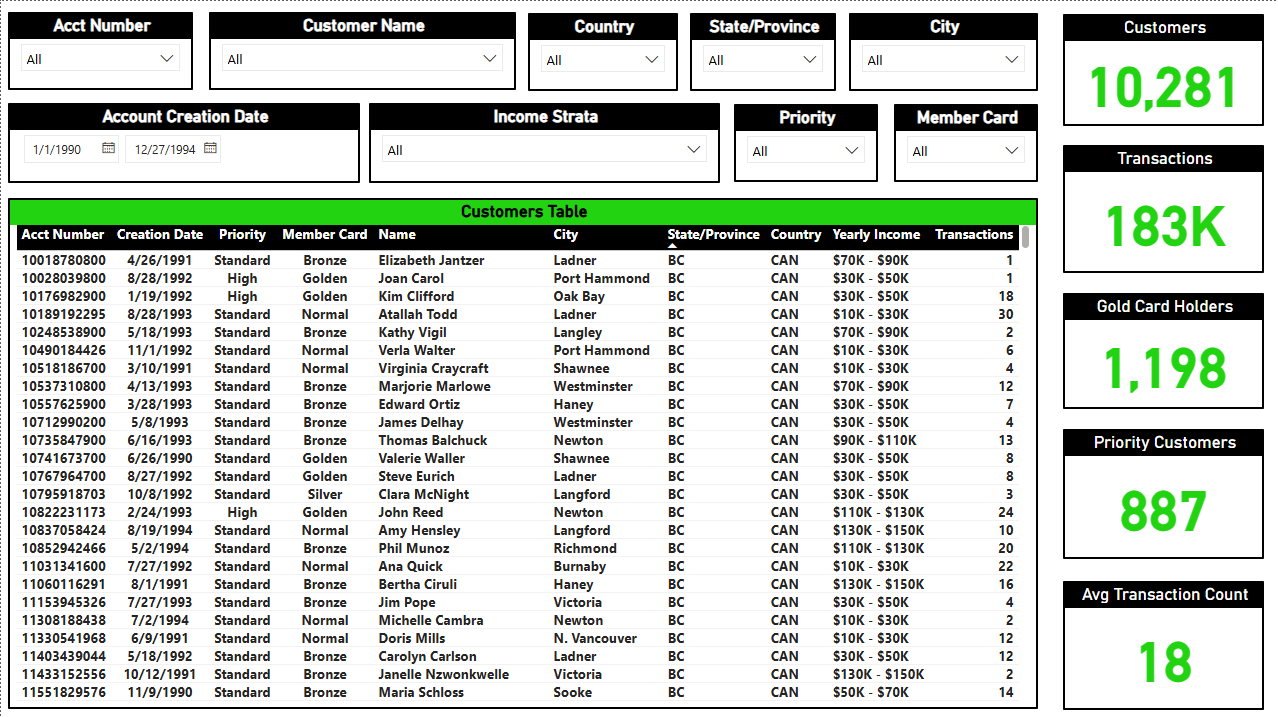

This screenshot's page, from the dashboard's own definition file:
{"tool":"powerbi","page":{"name":"Customer Lookup","canvas":[1280,720],"ordinal":2},"visuals":[{"type":"card","title":"Customers","fields":{"Values":["Measures Table.Total Customers"]},"box":[1062,13,201.1,112.4],"z":0,"group":"g1"},{"type":"tableEx","title":"Customers Table","fields":{"Values":["Customers.Customer Account Number","Customers.Date Account Opened","Customers.Priority","Customers.Member Card","Customers.Full Name","Customers.City","Customers.State/Province","Customers.Short_Country","Customers.Yearly Income","Measures Table.Customer Transactions"]},"box":[7.2,196.9,1029.7,510.8],"z":0},{"type":"group","id":"g1","title":"Customer Cards","box":[1062,13,201,695],"z":1000},{"type":"card","title":"Gold Card Holders","fields":{"Values":["Measures Table.Gold Card Members"]},"box":[1062,292.4,201.1,115.5],"z":1000,"group":"g1"},{"type":"slicer","title":"Acct Number","fields":{"Values":["Customers.Customer Account Number"]},"box":[7.2,11.3,185.3,77.9],"z":2000},{"type":"card","title":"Transactions","fields":{"Values":["Measures Table.Customer Transactions"]},"box":[1062,144.1,201.1,128],"z":2000,"group":"g1"},{"type":"slicer","title":"Customer Name","fields":{"Values":["Customers.Full Name"]},"box":[208.2,11.3,306.7,77.9],"z":3000},{"type":"card","title":"Priority Customers","fields":{"Values":["Measures Table.High Priority Customers"]},"box":[1062,428.3,201.1,129.6],"z":3000,"group":"g1"},{"type":"slicer","title":"Priority","fields":{"Values":["Customers.Priority"]},"box":[733.1,103.3,143.6,77.9],"z":4000},{"type":"card","title":"Avg Transaction Count","fields":{"Values":["Measures Table.Avg Transactions per Customer"]},"box":[1062,579.7,201.1,129.6],"z":4000,"group":"g1"},{"type":"slicer","title":"Account Creation Date","fields":{"Values":["Customers.Date Account Opened"]},"box":[7.2,101.5,351.8,80],"z":5000},{"type":"slicer","title":"Country","fields":{"Values":["Customers.Country"]},"box":[526.6,12.3,150.8,77.9],"z":6000},{"type":"slicer","title":"State/Province","fields":{"Values":["Customers.State/Province"]},"box":[689.2,12.3,145.4,77.9],"z":7000},{"type":"slicer","title":"Income Strata","fields":{"Values":["Customers.Yearly Income"]},"box":[368.2,101.5,350.8,80],"z":8000},{"type":"slicer","title":"City","fields":{"Values":["Customers.City"]},"box":[847.5,12.3,189.6,77.9],"z":9000},{"type":"slicer","title":"Member Card","fields":{"Values":["Customers.Member Card"]},"box":[893.1,103.3,143.6,77.9],"z":10000}]}

Visuals, with their boxes in screenshot pixels (x1, y1, x2, y2), scaled from the page's 1280x720 canvas onto the 1278x717 screenshot:
"Customers" card: [1060, 13, 1261, 125]
"Customers Table" tableEx: [7, 196, 1035, 705]
"Customer Cards" group: [1060, 13, 1261, 705]
"Gold Card Holders" card: [1060, 291, 1261, 406]
"Acct Number" slicer: [7, 11, 192, 89]
"Transactions" card: [1060, 143, 1261, 271]
"Customer Name" slicer: [208, 11, 514, 89]
"Priority Customers" card: [1060, 427, 1261, 556]
"Priority" slicer: [732, 103, 875, 180]
"Avg Transaction Count" card: [1060, 577, 1261, 706]
"Account Creation Date" slicer: [7, 101, 358, 181]
"Country" slicer: [526, 12, 676, 90]
"State/Province" slicer: [688, 12, 833, 90]
"Income Strata" slicer: [368, 101, 718, 181]
"City" slicer: [846, 12, 1035, 90]
"Member Card" slicer: [892, 103, 1035, 180]
